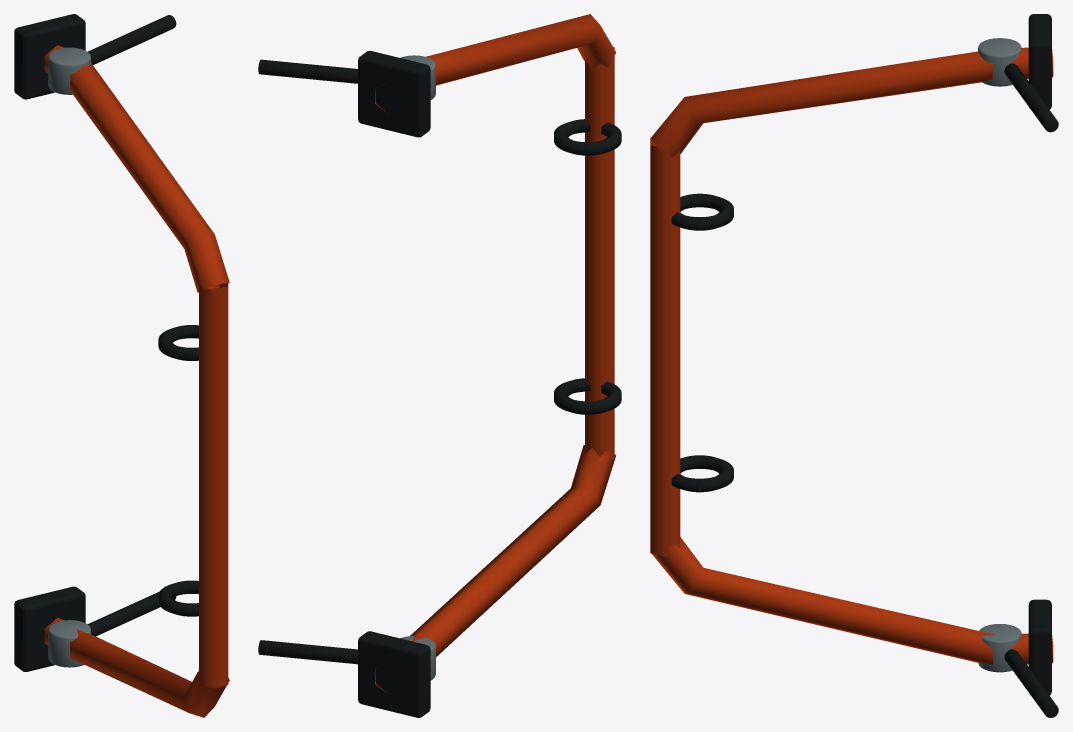
The model's file is SM_SternFrame.obj.
3 views of the same model, side by side, from view 1: azimuth 30°, elevation 25°; view 2: azimuth 150°, elevation 25°; view 3: azimuth 270°, elevation 25° (orthographic). The views are drawn at different scales.
Parts seen in each view (by area): view 1: SM_SternFrame; view 2: SM_SternFrame; view 3: SM_SternFrame.
Boxes of the visible parts, x1=… form: SM_SternFrame: x1=14, y1=14, x2=229, y2=717; SM_SternFrame: x1=258, y1=14, x2=621, y2=717; SM_SternFrame: x1=650, y1=14, x2=1058, y2=717.
Bounding box in the file's own units: 186 × 625 × 354.
